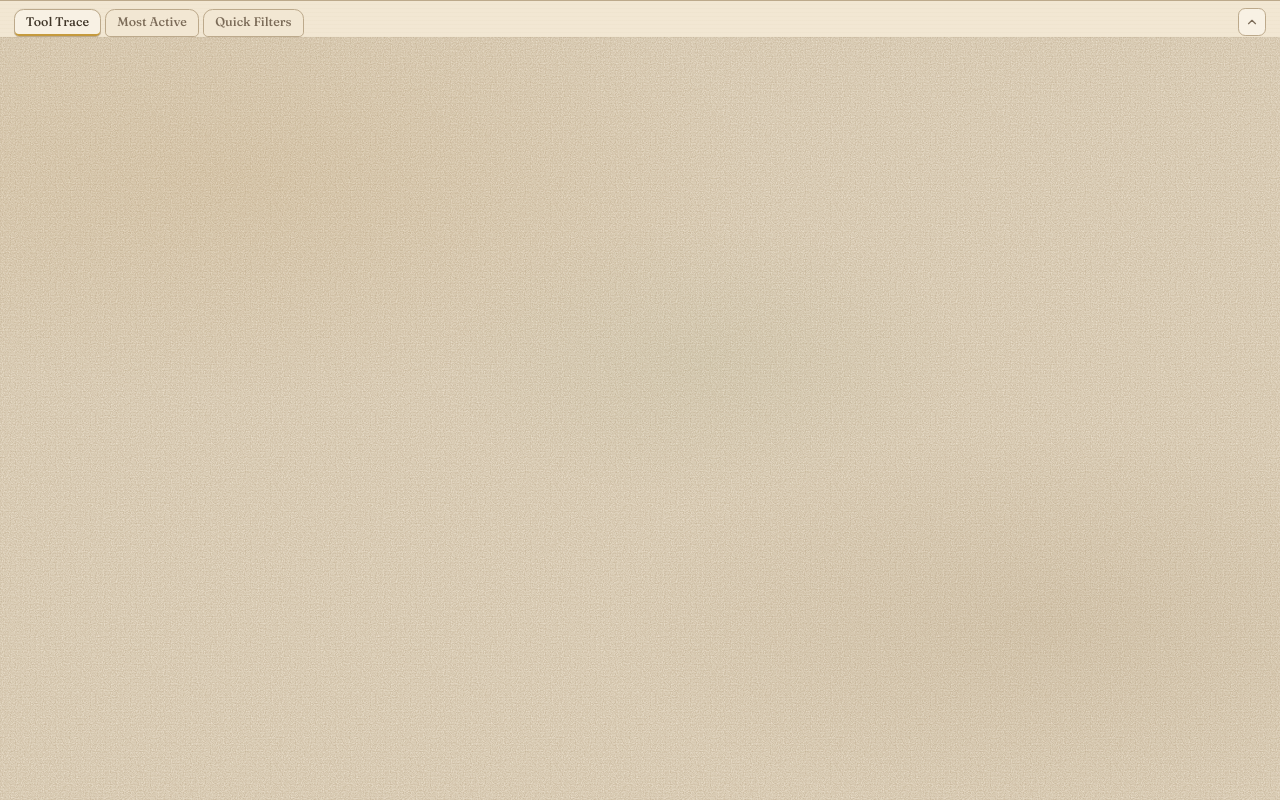
BottomDock › switches to Quick Filters pane
Click the tab "Quick Filters" at (253, 23), box x1=203 y1=9 x2=304 y2=37
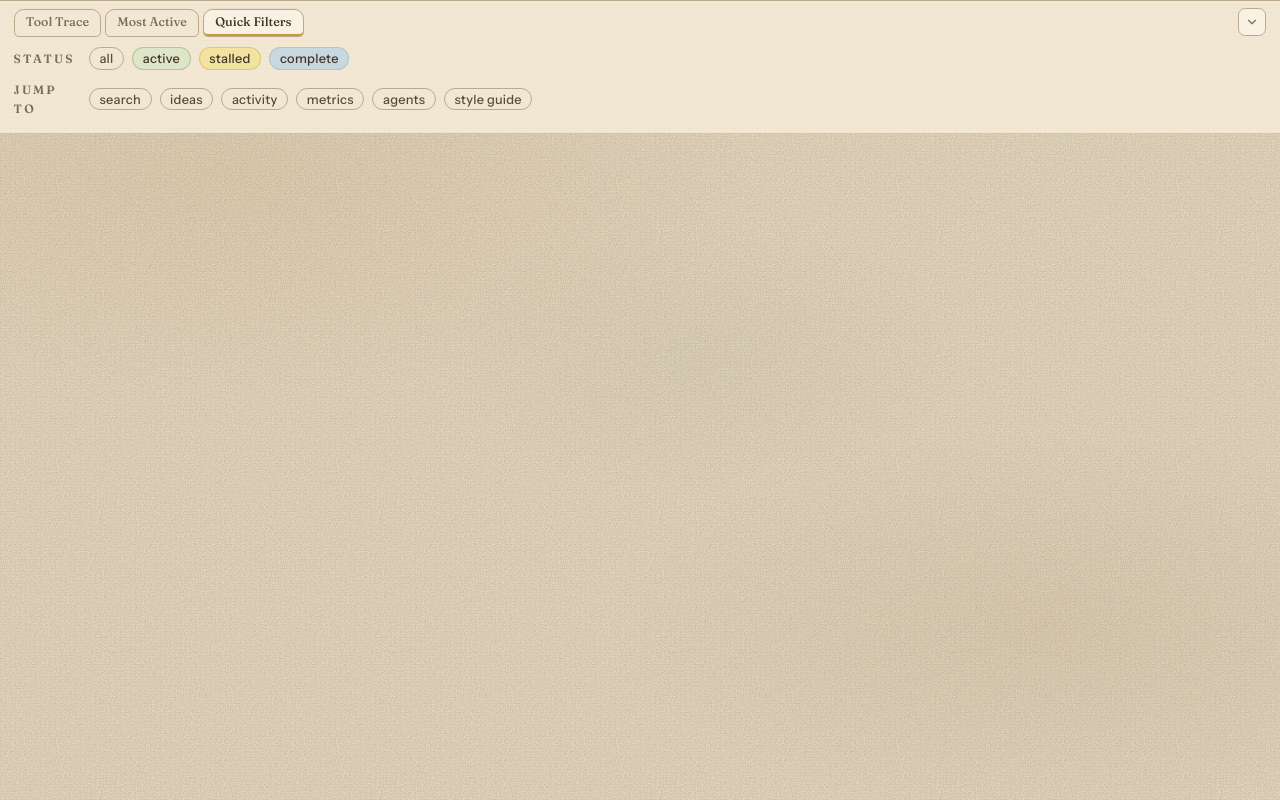
Now the text "Status" is shown, box x1=14 y1=49 x2=78 y2=68
Now the link "Active" is shown, box x1=132 y1=47 x2=191 y2=70
Now the link "Stalled" is shown, box x1=199 y1=47 x2=261 y2=70
